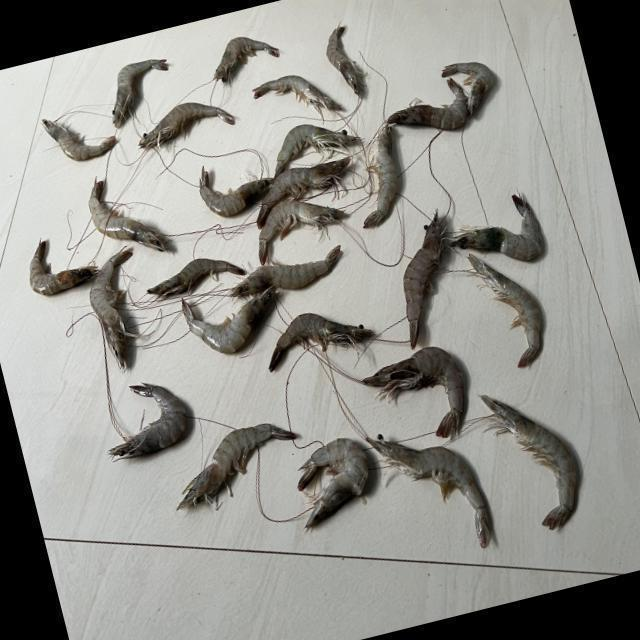shrimp: (367, 435, 492, 548), (482, 395, 577, 530), (177, 423, 296, 510), (363, 346, 465, 438), (469, 253, 542, 367), (257, 155, 351, 228), (182, 285, 277, 353), (299, 438, 369, 529), (89, 249, 141, 370), (269, 312, 374, 371), (452, 194, 543, 260), (109, 383, 187, 457), (89, 178, 169, 250), (405, 212, 447, 349), (259, 199, 347, 264), (231, 244, 341, 296), (275, 123, 361, 176), (139, 101, 235, 147), (253, 74, 341, 121), (388, 77, 469, 128), (112, 58, 168, 126), (29, 239, 98, 294), (200, 165, 274, 216), (147, 258, 246, 296), (364, 123, 398, 227), (41, 117, 116, 160), (214, 35, 280, 80), (443, 60, 495, 113), (327, 24, 360, 93)
